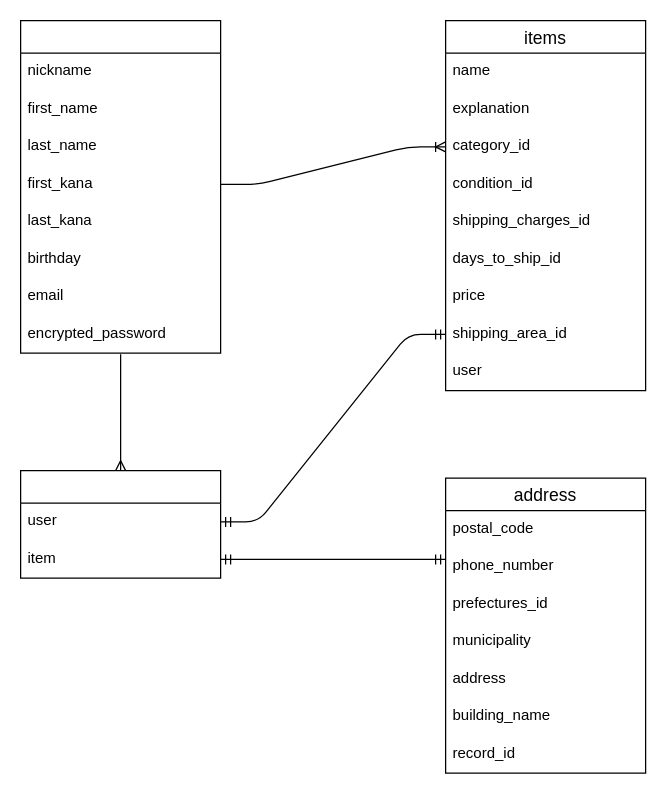
Image size: 666x794. Some labels were removed from this diagram. Each missing label, with the box of its shape:
record: (19, 469, 221, 578)
users: (19, 19, 221, 353)
